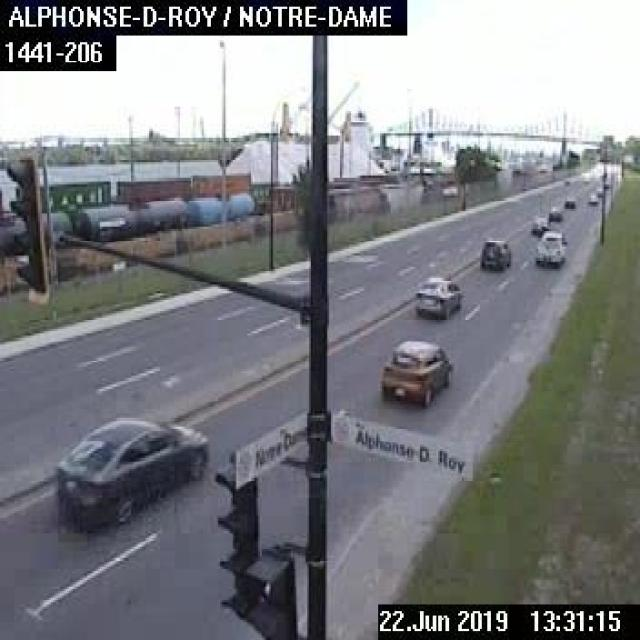vehicle: (51, 413, 209, 527), (379, 334, 452, 406), (413, 273, 463, 319), (532, 226, 567, 264), (478, 235, 511, 269), (530, 212, 550, 233), (548, 206, 560, 220), (563, 196, 574, 207), (587, 193, 596, 203), (594, 183, 602, 194)
